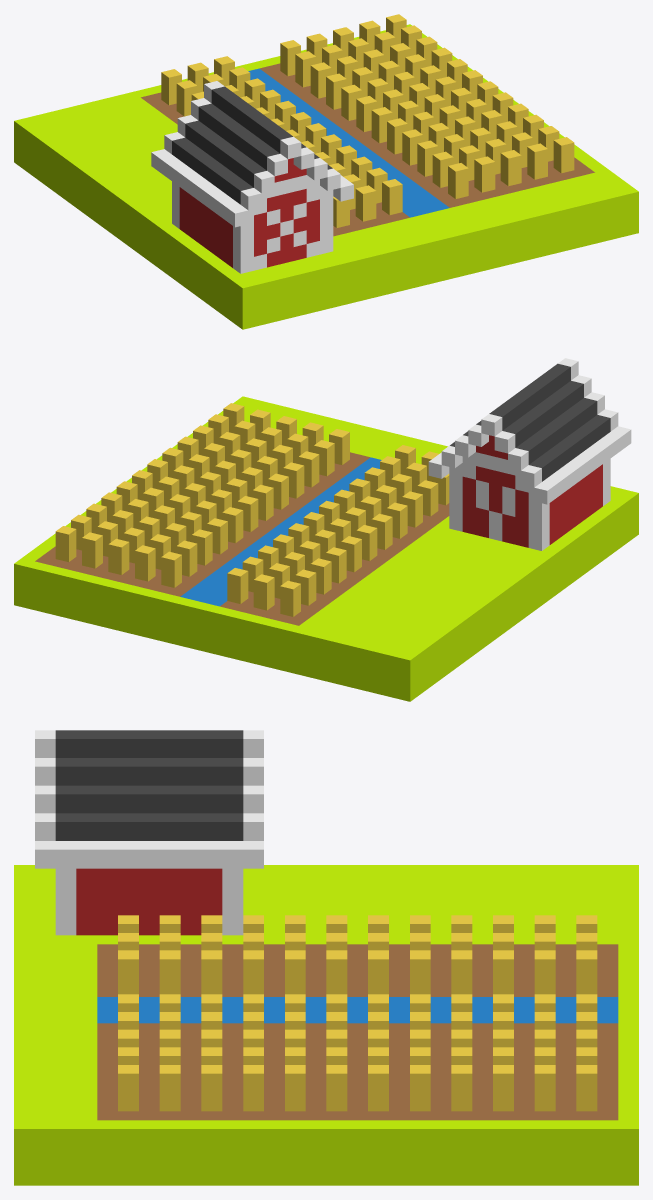
File: Farm_1.obj
3 renders of one model, top to bottom at view 1: azimuth 30°, elevation 25°; view 2: azimuth 150°, elevation 25°; view 3: azimuth 270°, elevation 25°, orthographic. The views are drawn at different scales.
Bounding box in the file's own units: 3 × 1.2 × 3.
